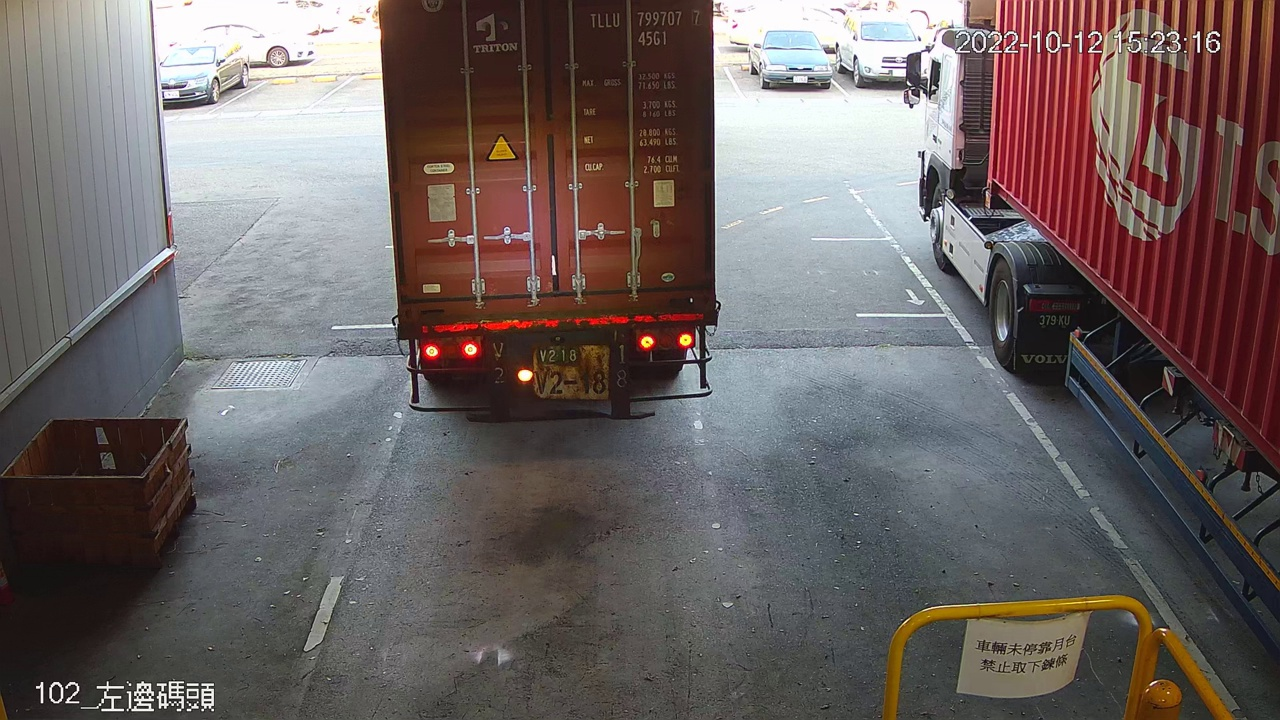container: (582, 5, 709, 53)
